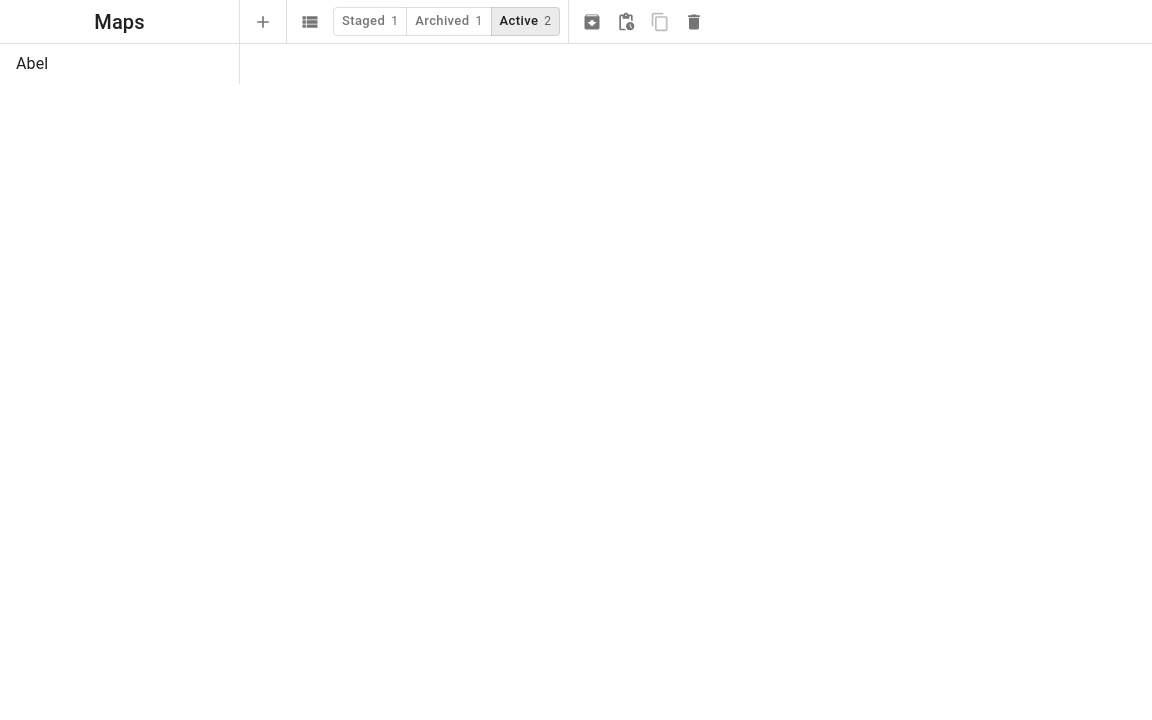
Test: EditorPageShell — delete and the context menu › lists the files of a delete of more than one
The width and height of the screenshot is (1152, 720).
Click the button named "Delete".
click(694, 22)  # box x1=679 y1=6 x2=709 y2=36
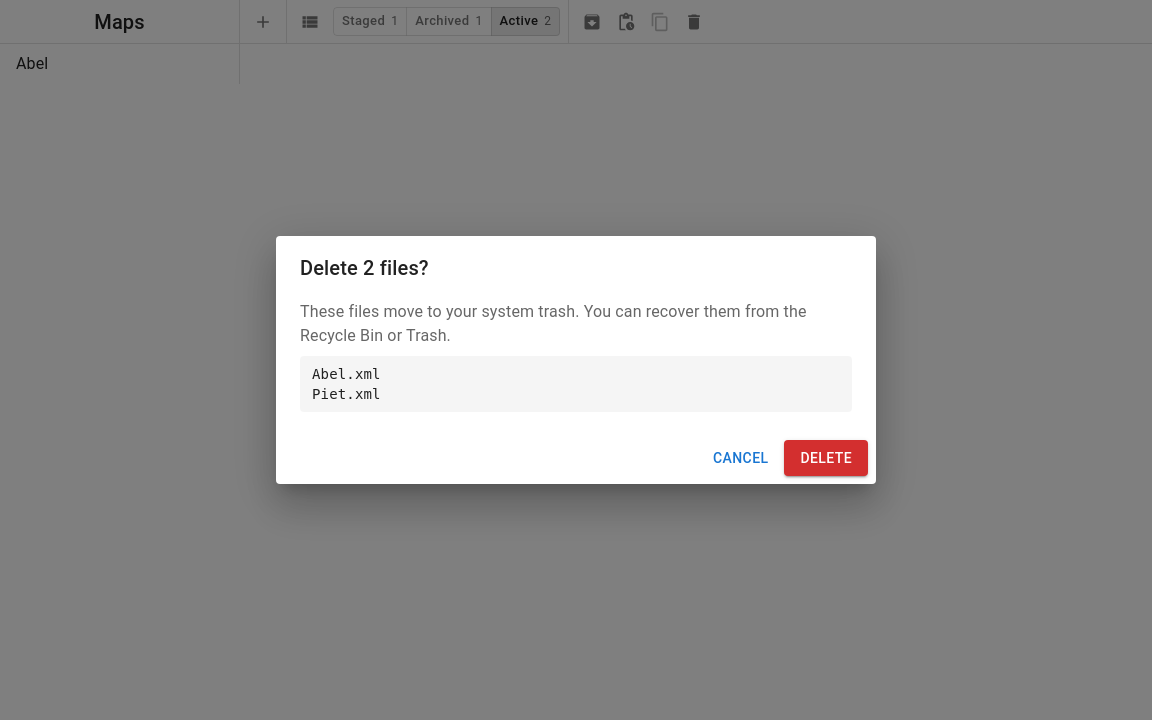
Expected: the dialog shows "Delete 2 files?", x1=300 y1=256 x2=429 y2=280
Expected: the text "Piet.xml" is shown, x1=312 y1=386 x2=381 y2=402
